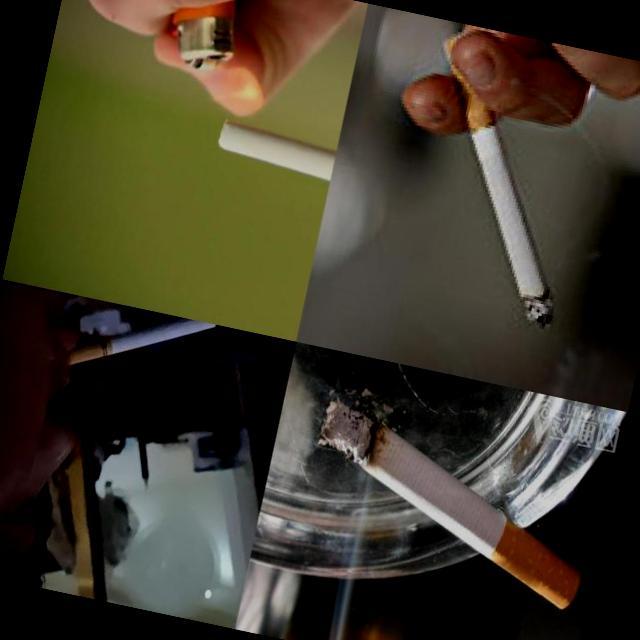smoke: (294, 397, 608, 614), (418, 107, 587, 336), (64, 296, 218, 393), (212, 118, 338, 192)
